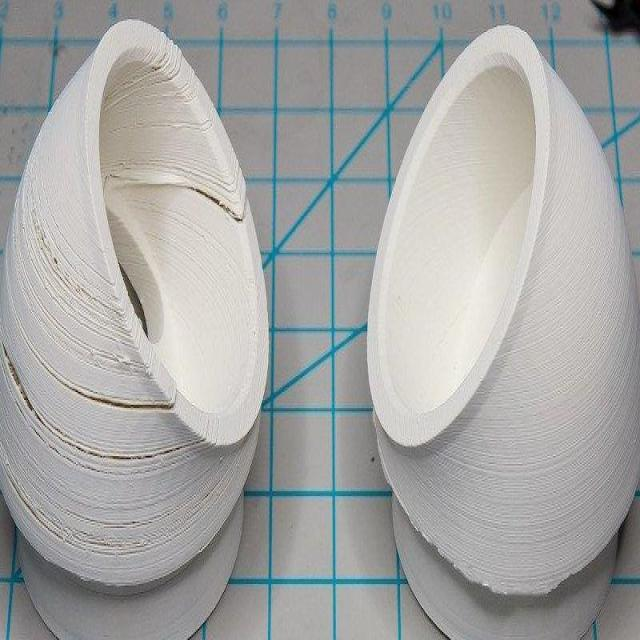cracks: (6, 138, 135, 349), (5, 352, 212, 474), (12, 479, 211, 556), (138, 152, 257, 234), (142, 22, 187, 93)
